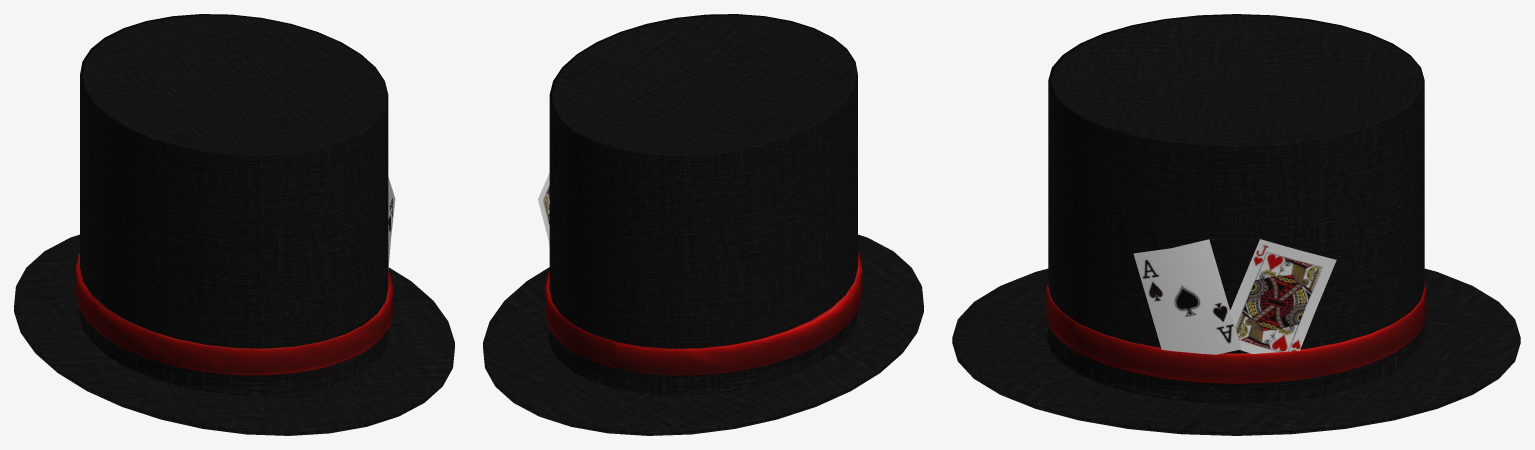
Rendered from tophat.obj.
3 renders of one model, left to right at view 1: azimuth 30°, elevation 25°; view 2: azimuth 150°, elevation 25°; view 3: azimuth 270°, elevation 25°, orthographic. The views are drawn at different scales.
Size of the model in its own units: 22.33 by 14.78 by 28.97.
Materials: 1 (1 with a texture image).
